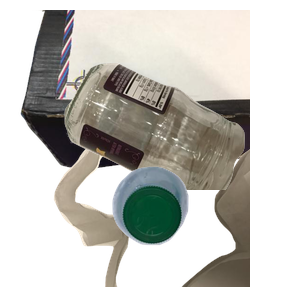cardboard: (18, 10, 258, 171)
glass: (62, 60, 300, 240)
plastic: (110, 164, 300, 300)
trash: (51, 120, 291, 300)
